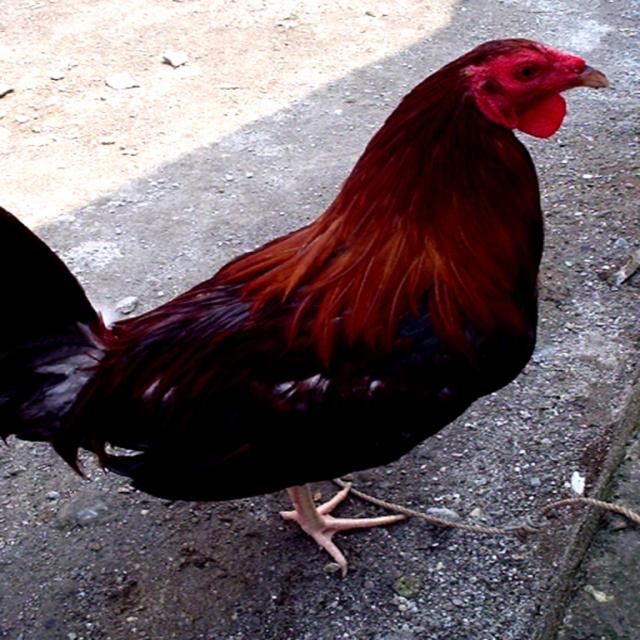Chicken: (0, 38, 610, 577)
